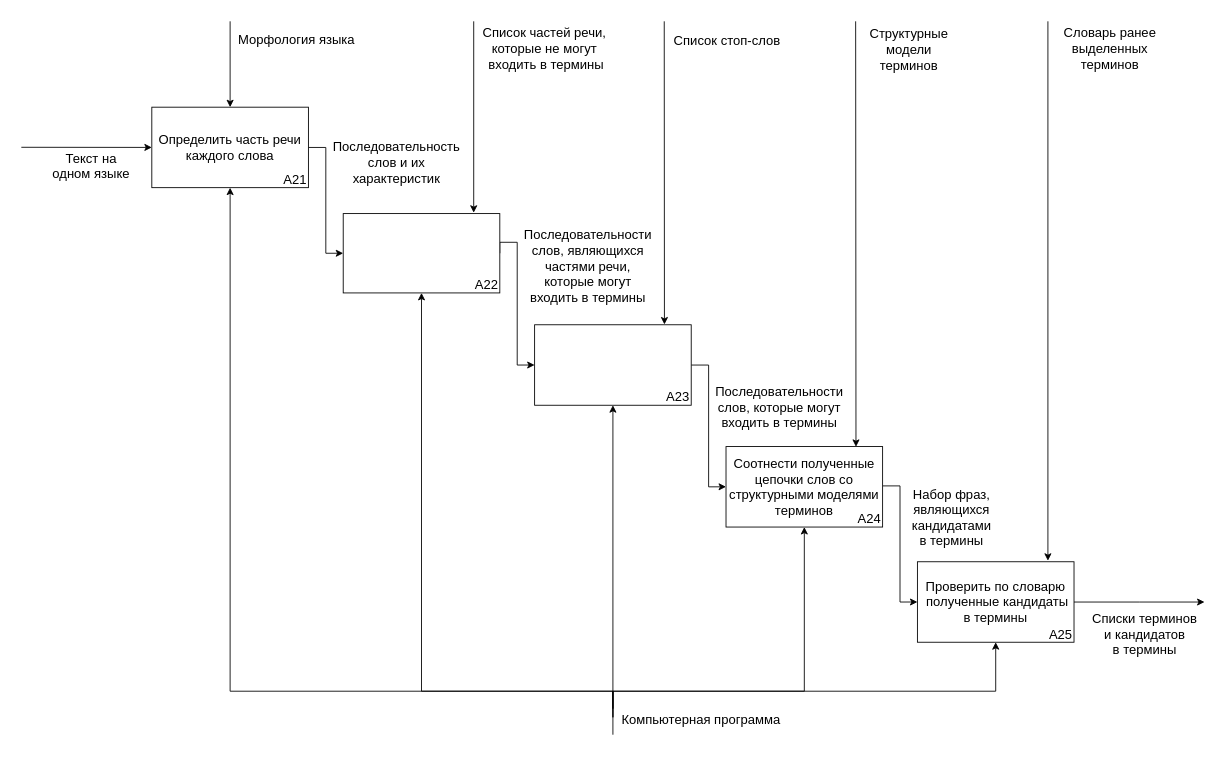
This 1227x757 diagram has some shape labels left out. The shapes that lost their labels are listed below. From the top down, each one's box as (x1, y1, x2, y2) in pixels, then its label:
(342, 213, 500, 293): "Выбросить" из текста части речи, которые не могут входить в термины
(534, 324, 691, 405): "Выбросить" из текста стоп-слова
